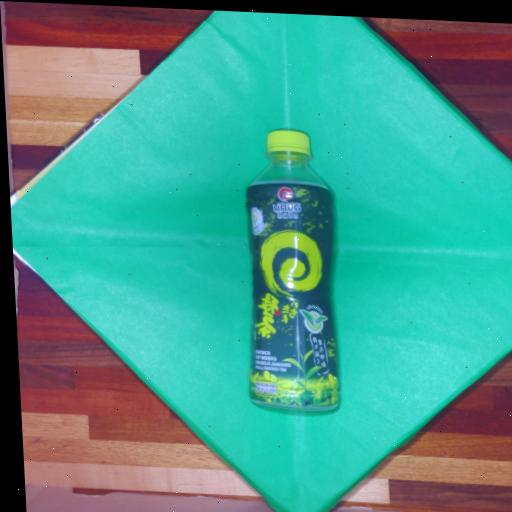bottle: (239, 126, 342, 412)
